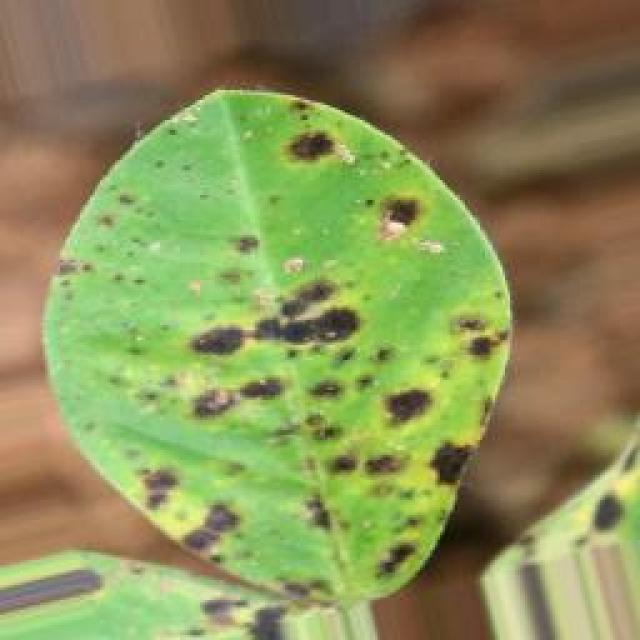Yellowish: (30, 94, 549, 600)
